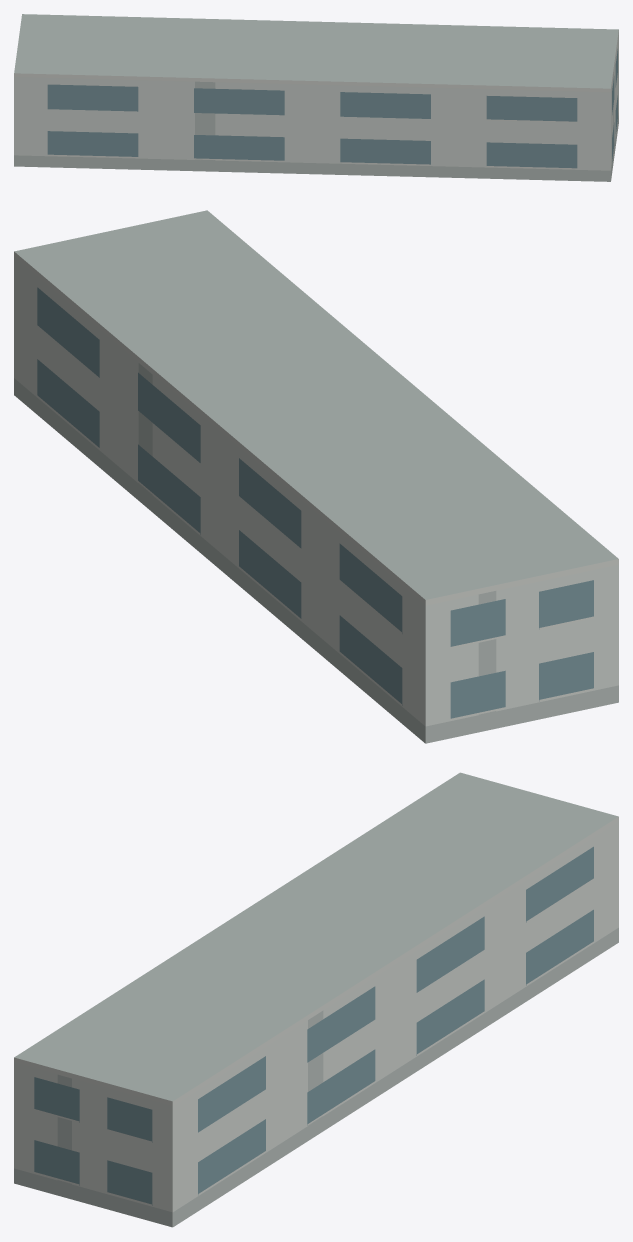
File: survey-upis-32846244.glb
3 views of the same model, one above another, from view 1: azimuth 30°, elevation 25°; view 2: azimuth 150°, elevation 25°; view 3: azimuth 270°, elevation 25° (orthographic). The views are drawn at different scales.
Visible parts, largest first — view 1: survey-upis-32846244.tmp; view 2: survey-upis-32846244.tmp; view 3: survey-upis-32846244.tmp.
Boxes of the visible parts, <box> form: survey-upis-32846244.tmp: <box>14,14,618,181</box>; survey-upis-32846244.tmp: <box>14,210,618,743</box>; survey-upis-32846244.tmp: <box>14,772,618,1227</box>.
Size of the model in its own units: 34.16 by 6.1 by 26.55.
